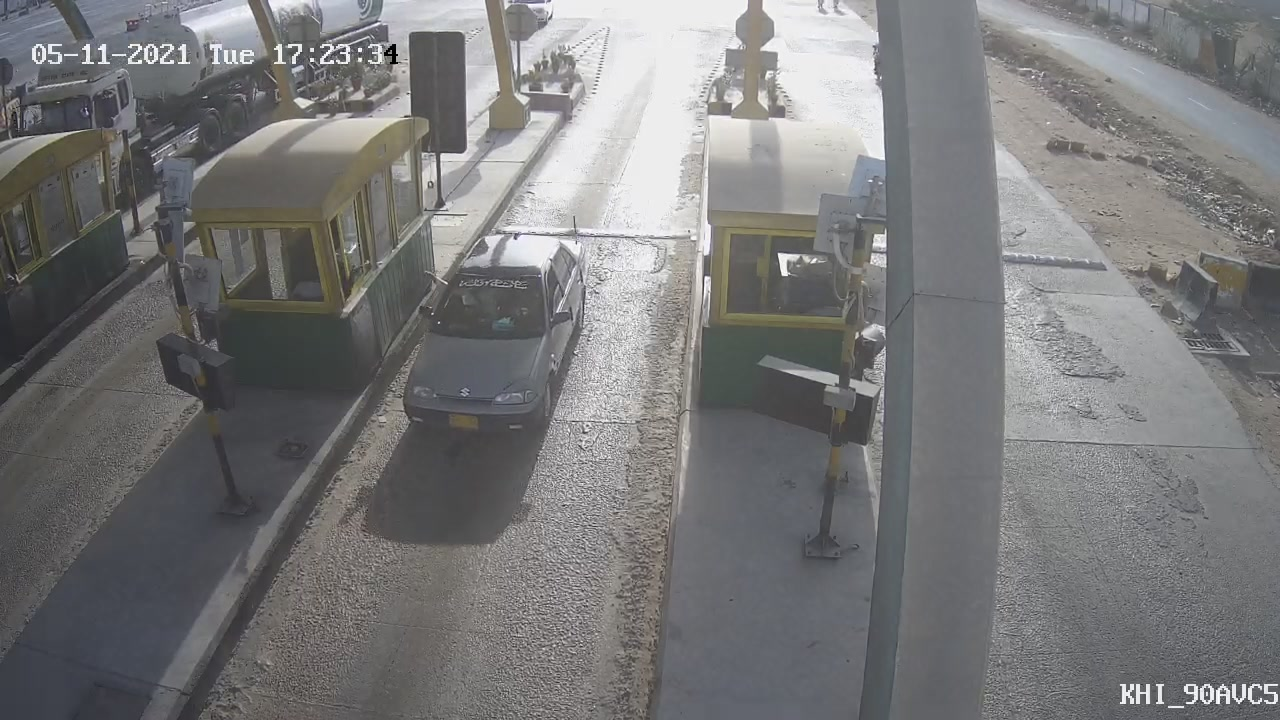F1: (370, 208, 614, 464)
